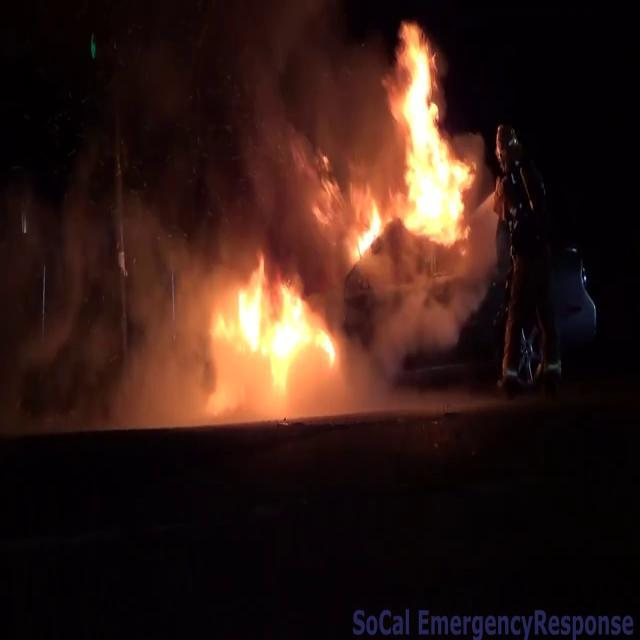Fire: (340, 18, 480, 268), (210, 252, 354, 414)
Smoke: (35, 182, 219, 430)
